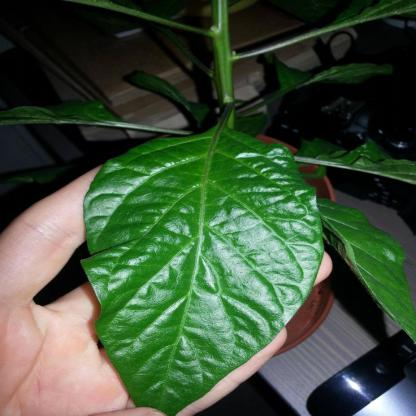Bell_pepper leaf: (81, 125, 326, 415)
